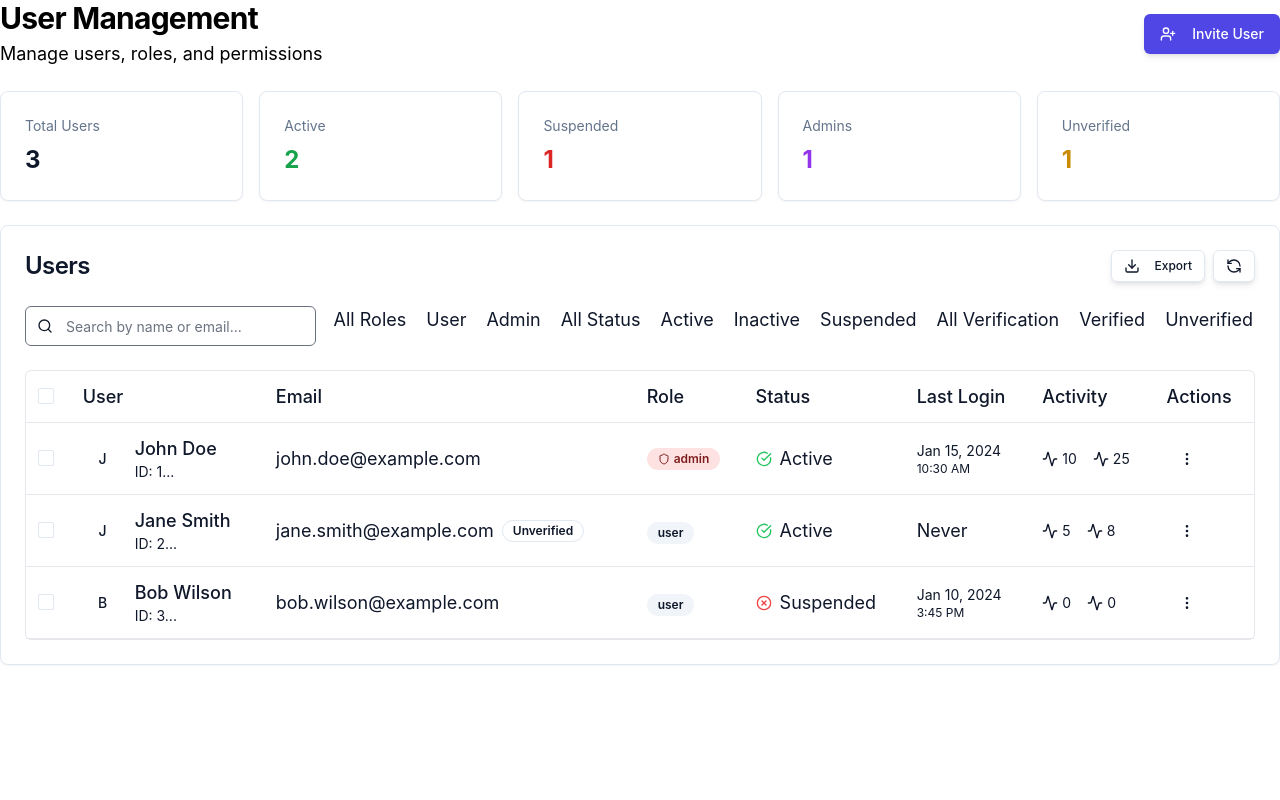
Test: UserListView › User Invitation › opens invite user dialog
The image size is (1280, 800).
Step 1. Click the button "Invite User" → (1212, 34), box left=1144, top=14, right=1279, bottom=54
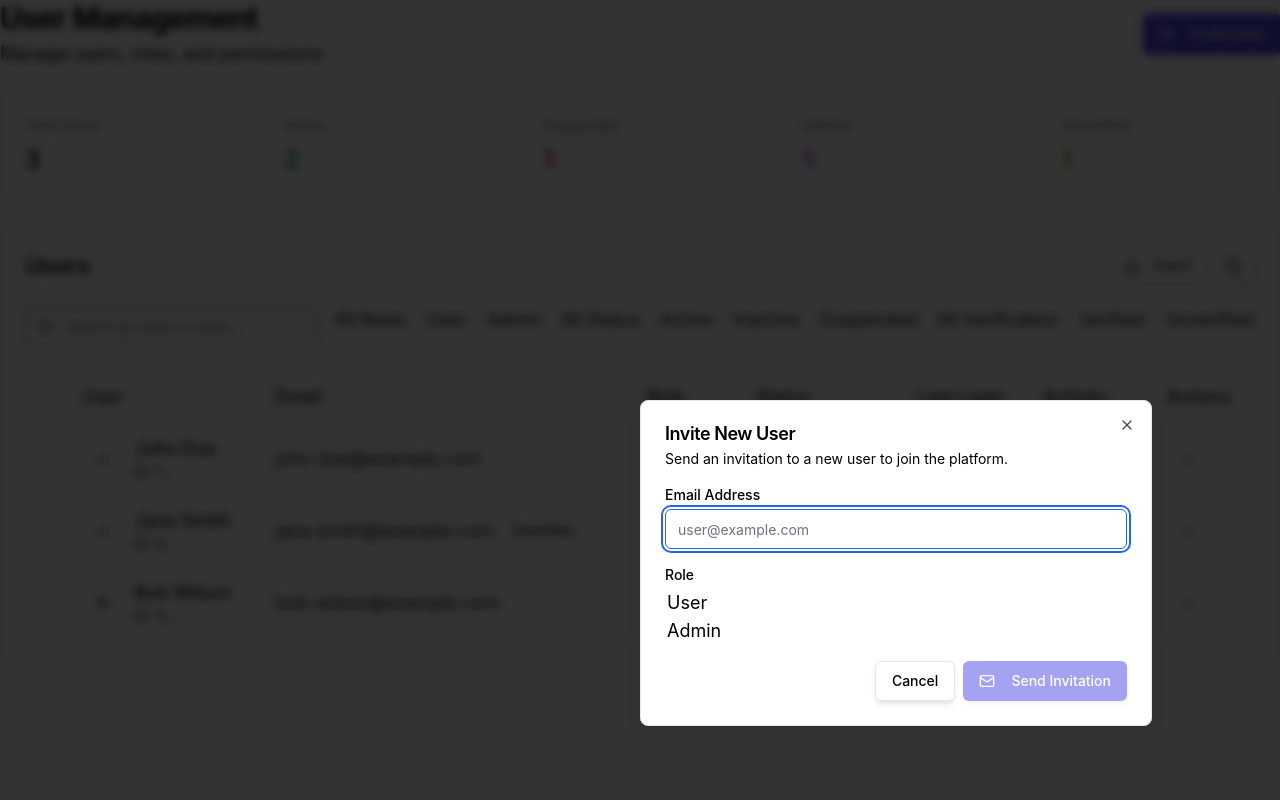
Now the heading "Invite New User" is shown, box left=665, top=423, right=795, bottom=444
Now the text "Send an invitation to a new user to join the platform." is shown, box left=665, top=450, right=1008, bottom=467
